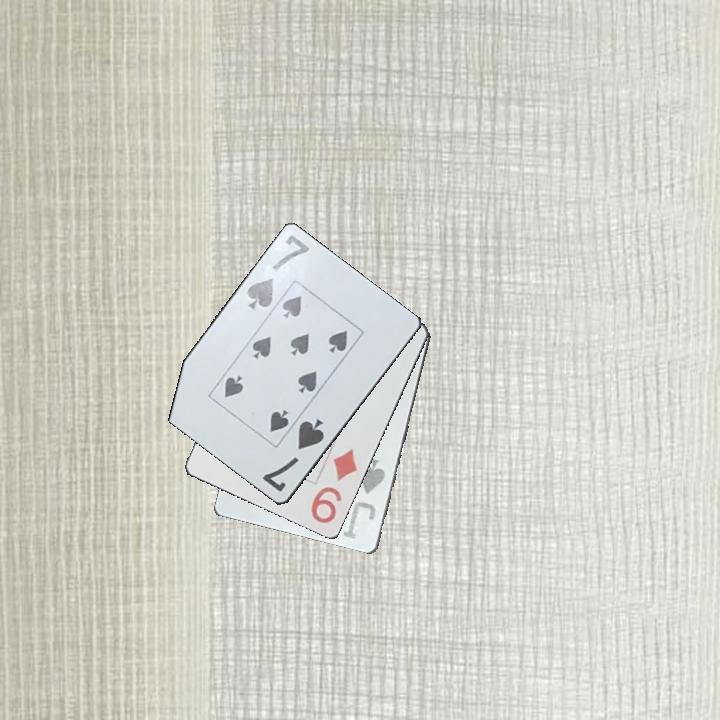7s: (243, 231, 313, 314), (259, 415, 327, 495)
9d: (306, 444, 362, 527)
Js: (339, 456, 388, 545)
